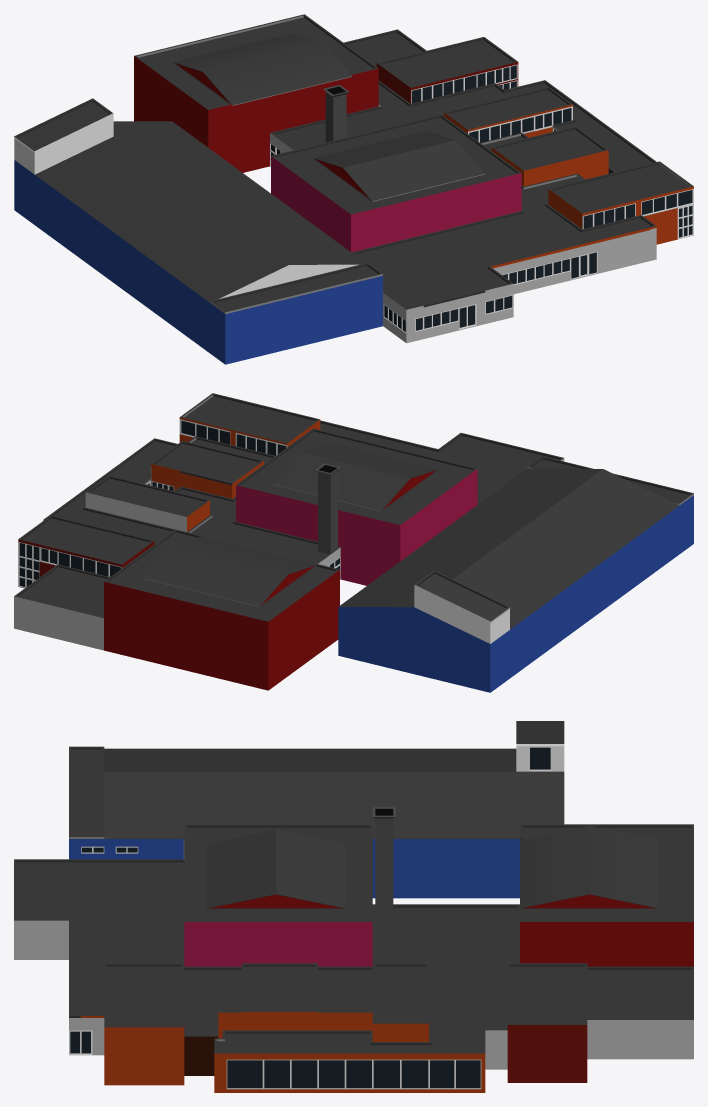
The model's file is Aclo_sportcentrum.fbx.
3 views of the same model, one above another, from view 1: azimuth 30°, elevation 25°; view 2: azimuth 150°, elevation 25°; view 3: azimuth 270°, elevation 25° (orthographic). The views are drawn at different scales.
Parts seen in each view (by area): view 1: Box001; view 2: Box001; view 3: Box001.
Boxes of the visible parts, x1=… form: Box001: x1=14, y1=14, x2=693, y2=364; Box001: x1=14, y1=393, x2=693, y2=692; Box001: x1=14, y1=721, x2=693, y2=1092.
Size of the model in its own units: 324 by 72.44 by 327.
